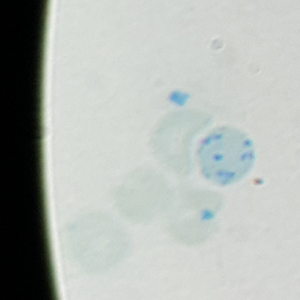aggregate reticulocyte: (194, 124, 259, 189)
erythrocyte: (146, 106, 214, 180), (62, 209, 132, 276), (164, 183, 225, 247), (110, 167, 171, 227)
